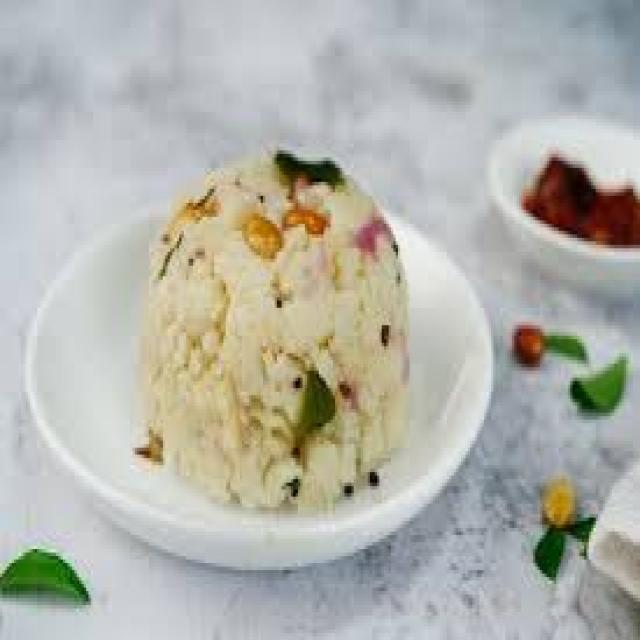UPMA: (137, 154, 405, 504)
